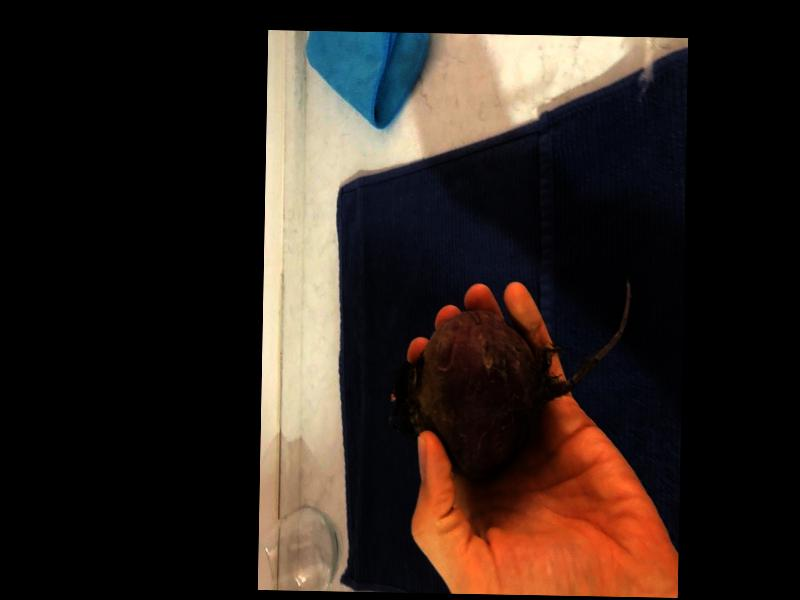Beet: (388, 271, 631, 483)
